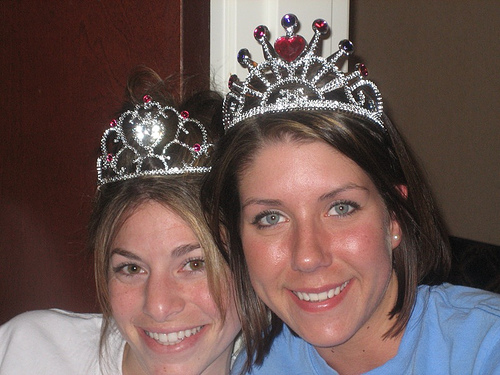without_mask: (230, 134, 412, 348), (104, 189, 240, 372)
